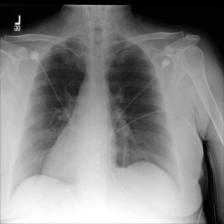normal: (13, 30, 179, 197)
